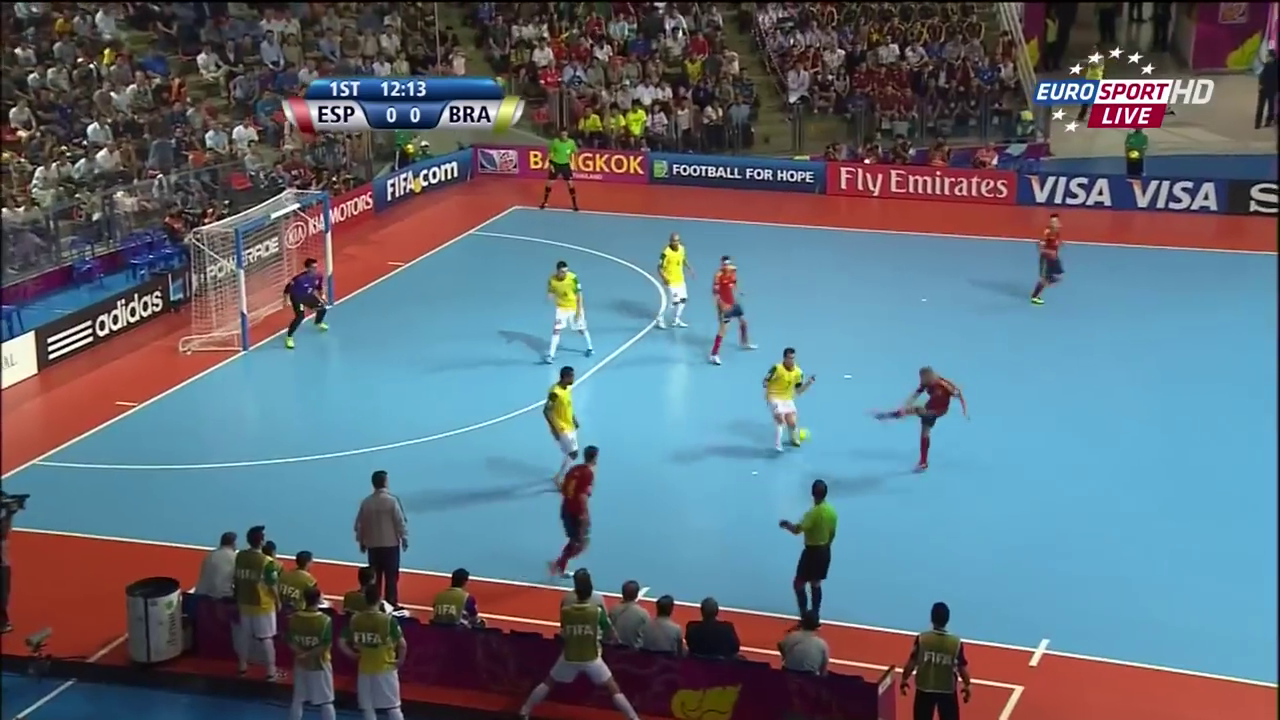ball: (793, 428, 809, 444)
person: (877, 369, 971, 473), (553, 445, 602, 576), (702, 253, 754, 369), (531, 358, 584, 462), (540, 265, 596, 363), (274, 259, 336, 346), (761, 353, 810, 453), (654, 234, 695, 335), (1031, 213, 1068, 311)
